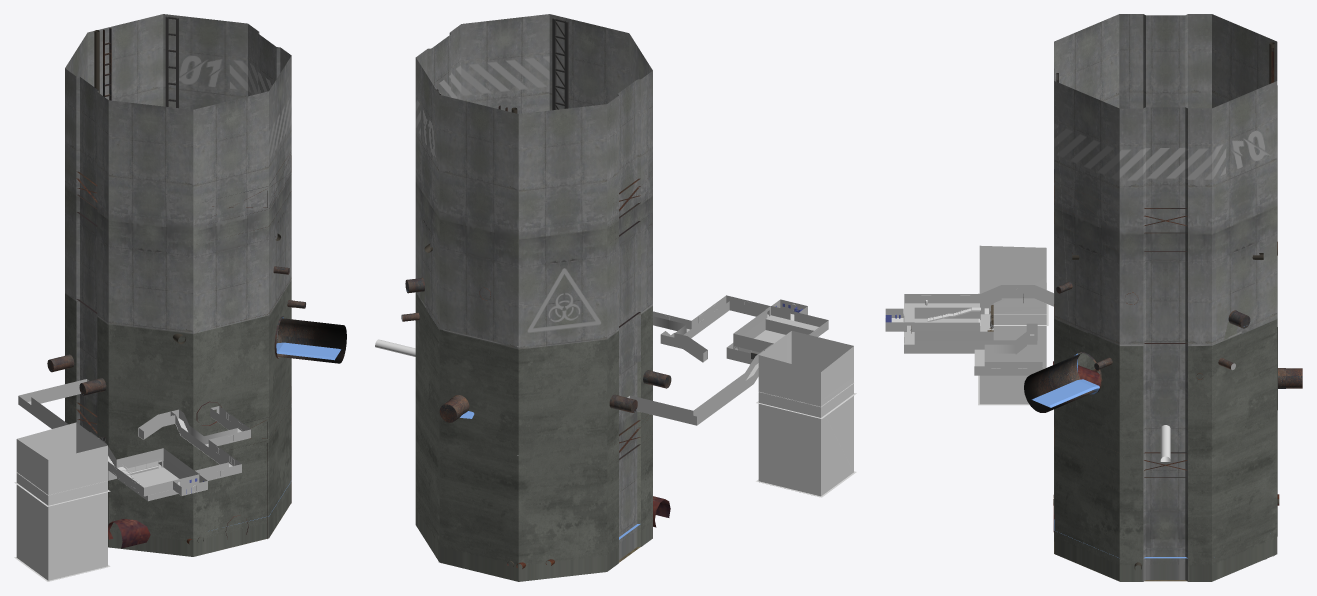
File: 2S_All.fbx
3 views of the same model, side by side, from view 1: azimuth 30°, elevation 25°; view 2: azimuth 150°, elevation 25°; view 3: azimuth 270°, elevation 25° (orthographic). The views are drawn at different scales.
Visible parts, largest first — view 1: 2S_P_Wall (×2), 2S_Convey, 2S_P_WallPipe (×2), 2S_2F_Wall (×2), 2S_1F_Wall, 2S_P_Pipe, 2S_P_WallFrame, 2S_Water, 2S_P_Ladder, 2S_2F_RoofWall, 2S_1F_Floor, Object013 (+1 smaller); view 2: 2S_P_Wall (×2), 2S_Convey, 2S_2F_Wall (×2), 2S_2F_RoofWall (×2), 2S_1F_Wall, 2S_P_Ladder, 2S_P_WallPipe; view 3: 2S_P_Wall (×2), 2S_Convey, 2S_P_WallPipe (×2), 2S_2F_Wall (×2), 2S_1F_Wall, 2S_2F_Floor, 2S_Water, 2S_P_WallFrame, Object013, Object014.
Boxes of the visible parts, x1=… form: 2S_P_Wall (×2): x1=65, y1=14, x2=291, y2=556; 2S_Convey: x1=16, y1=422, x2=107, y2=580; 2S_P_WallPipe (×2): x1=47, y1=266, x2=346, y2=395; 2S_2F_Wall (×2): x1=99, y1=408, x2=237, y2=496; 2S_1F_Wall: x1=116, y1=448, x2=194, y2=501; 2S_P_Pipe: x1=108, y1=401, x2=248, y2=548; 2S_P_WallFrame: x1=74, y1=152, x2=291, y2=538; 2S_Water: x1=276, y1=342, x2=340, y2=360; 2S_P_Ladder: x1=165, y1=16, x2=178, y2=108; 2S_2F_RoofWall: x1=31, y1=385, x2=98, y2=438; 2S_1F_Floor: x1=128, y1=464, x2=180, y2=487; Object013: x1=208, y1=429, x2=250, y2=465; 2S_P_Wall (×2): x1=415, y1=14, x2=652, y2=581; 2S_Convey: x1=758, y1=331, x2=853, y2=496; 2S_2F_Wall (×2): x1=653, y1=301, x2=828, y2=362; 2S_2F_RoofWall (×2): x1=630, y1=350, x2=763, y2=425; 2S_1F_Wall: x1=726, y1=310, x2=813, y2=364; 2S_P_Ladder: x1=552, y1=18, x2=568, y2=110; 2S_P_WallPipe: x1=401, y1=277, x2=671, y2=412; 2S_P_Wall (×2): x1=1054, y1=14, x2=1277, y2=581; 2S_Convey: x1=979, y1=245, x2=1046, y2=404; 2S_P_WallPipe (×2): x1=1024, y1=282, x2=1302, y2=412; 2S_2F_Wall (×2): x1=904, y1=285, x2=1042, y2=369; 2S_1F_Wall: x1=914, y1=307, x2=993, y2=340; 2S_2F_Floor: x1=904, y1=303, x2=1034, y2=366; 2S_Water: x1=1032, y1=379, x2=1099, y2=407; 2S_P_WallFrame: x1=1054, y1=169, x2=1187, y2=477; Object013: x1=904, y1=344, x2=974, y2=353; Object014: x1=974, y1=366, x2=1042, y2=375.
Bounding box in the file's own units: 823 × 958 × 760.
